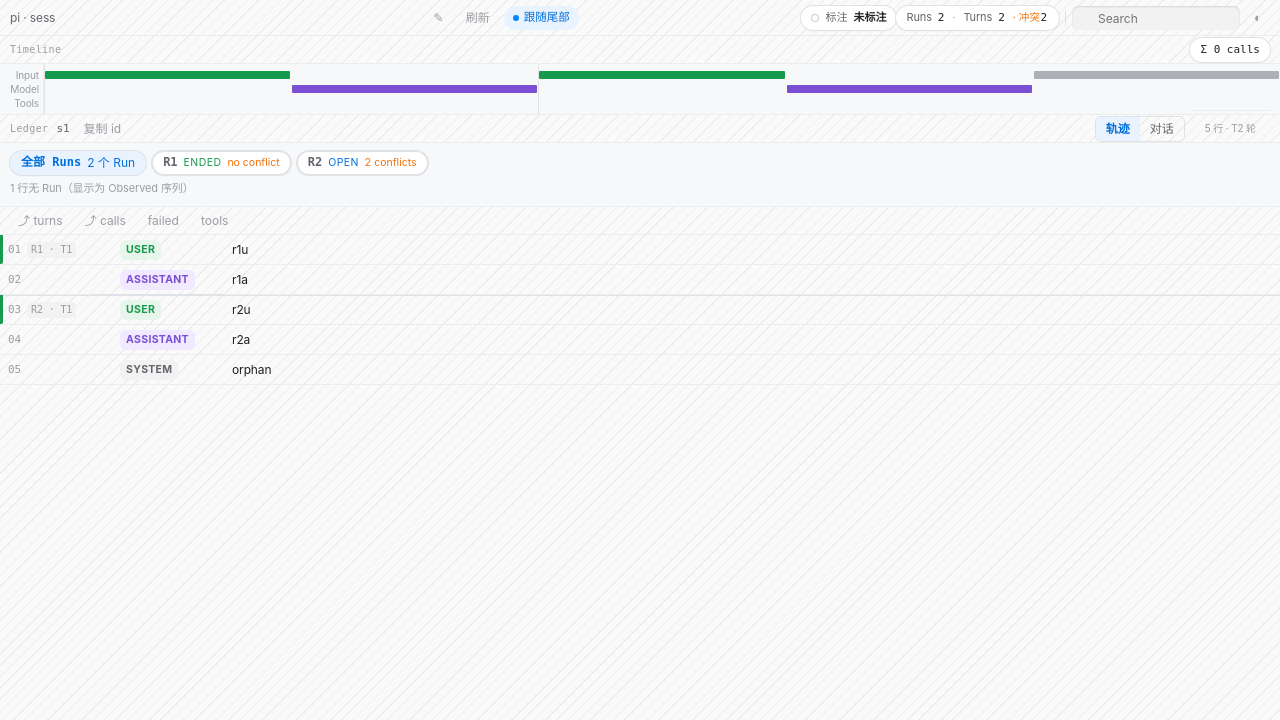
SessionView › loads session + runs, lets user switch runs without identity collision
Check: the text "R1" is shown, box [163, 153, 178, 173]
Check: the element with class "stat-badge" showing "Runs 2 · Turns 2 · 冲突2" is shown, box [896, 6, 1059, 30]
# 切到 R2：r1u 消失，r2u 仍可见，observed 不再出现
Click the text "R2": (315, 163) [308, 153, 322, 173]
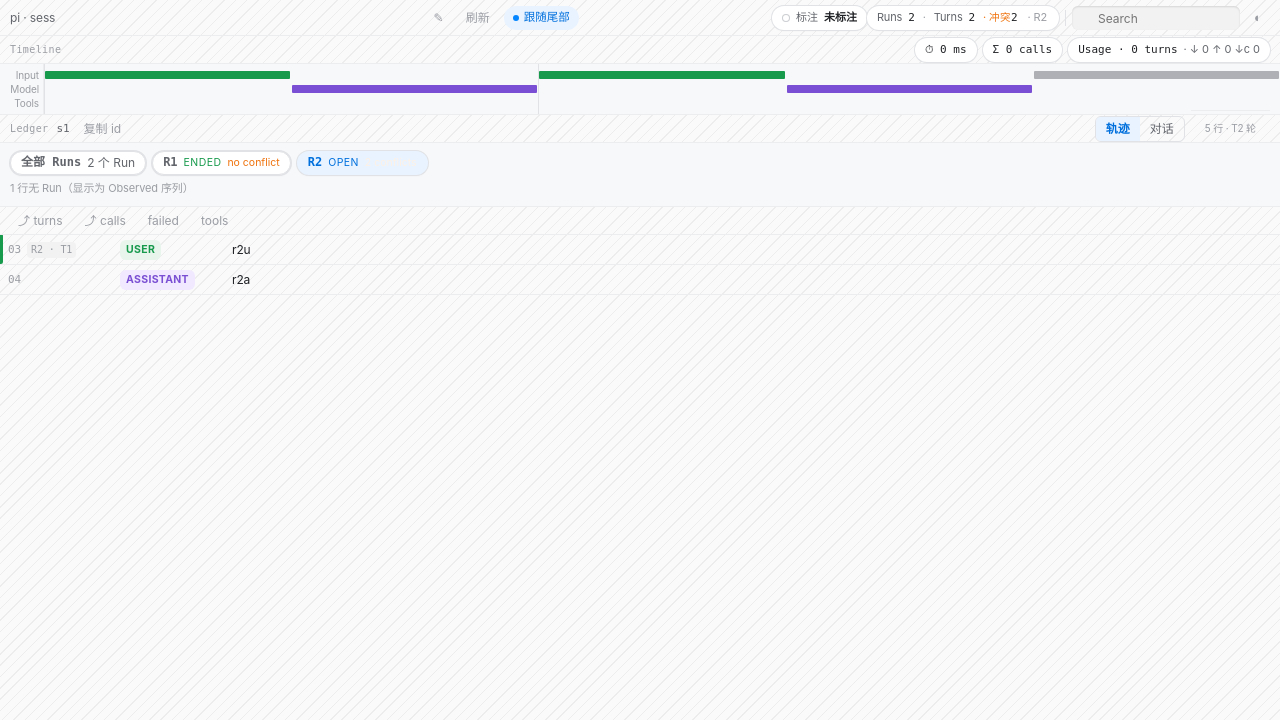
Check: the text "r2u" is shown, box [224, 234, 1279, 264]
Check: the text "r1u" is gone
Check: the text "orphan" is gone
# 切回「全部 Runs」恢复 observed
Click the text "全部 Runs": (51, 163) [21, 153, 81, 173]
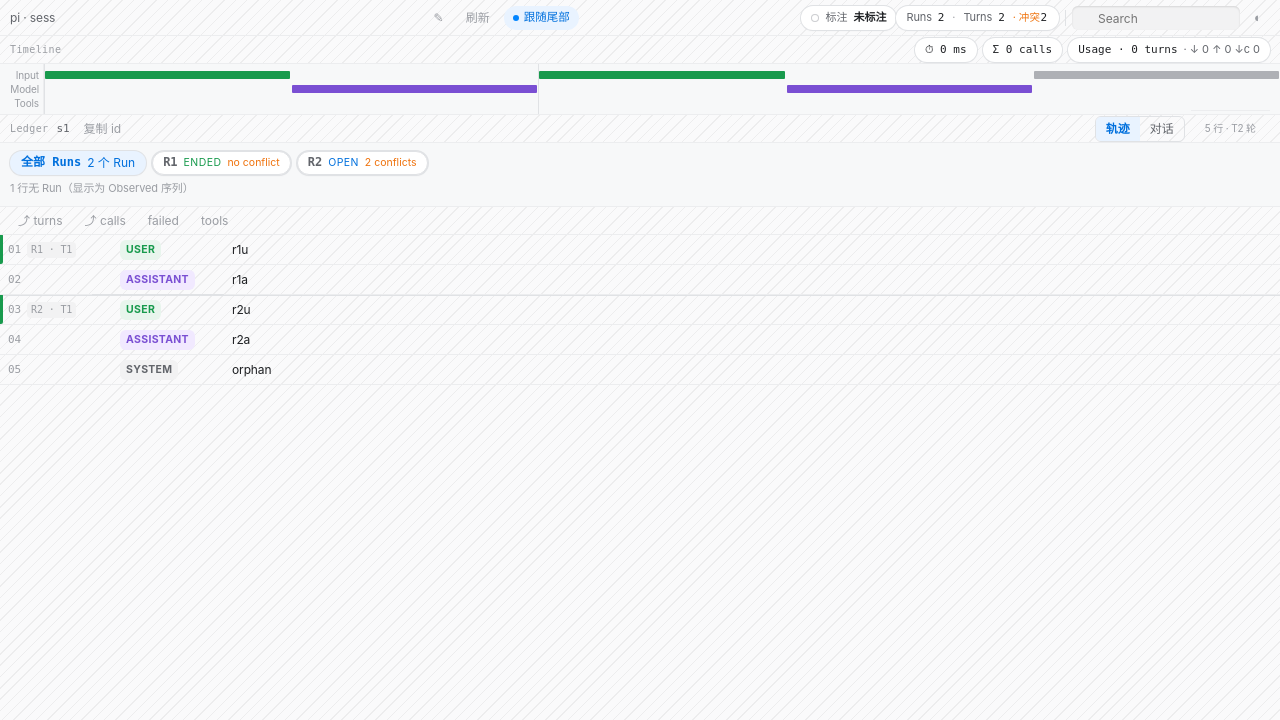
Check: the text "orphan" is shown, box [224, 354, 1279, 384]
Check: the text "r1u" is shown, box [224, 234, 1279, 264]
